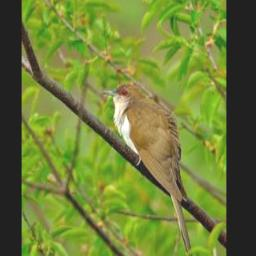Cuckoo: (102, 80, 194, 256)
